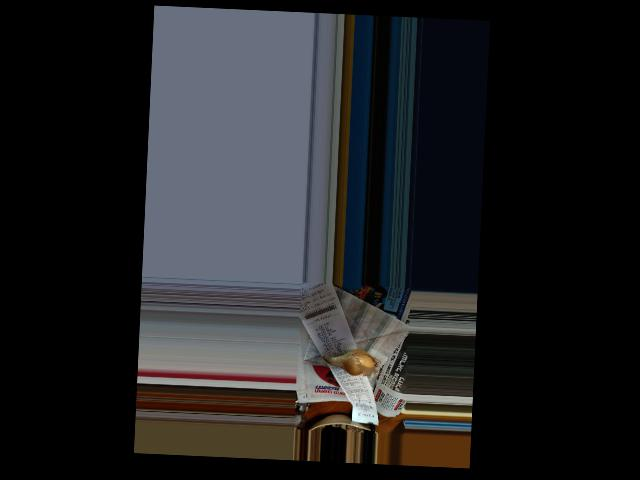onion: (338, 348, 377, 374)
